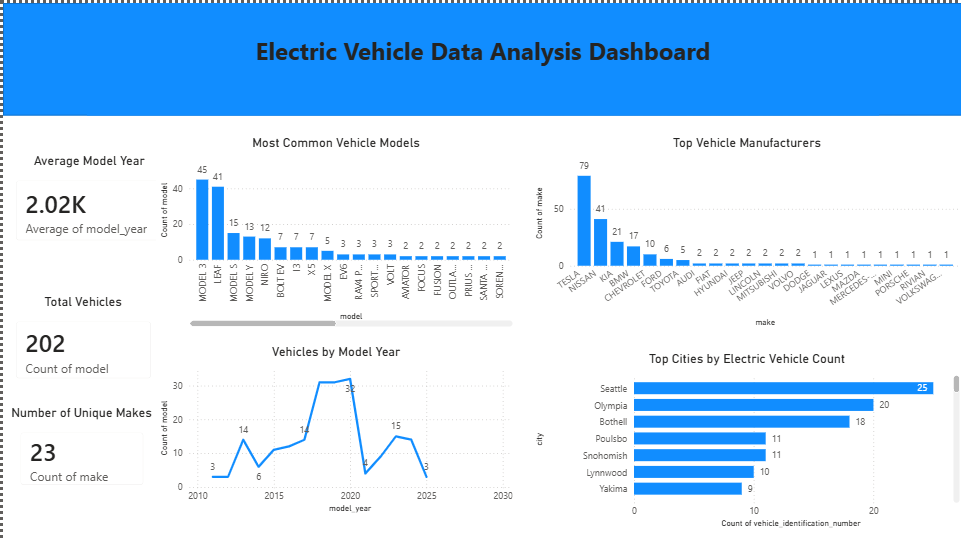

The page's visual inventory and layout, read from the dashboard file:
{"tool":"powerbi","page":{"name":"Page 1","canvas":[1280,720],"ordinal":0},"visuals":[{"type":"cardVisual","title":"Average Model Year","fields":{"Data":["Avg(Sheet1.model_year)"]},"box":[0,200,230,134],"z":0},{"type":"cardVisual","title":"Total Vehicles","fields":{"Data":["CountNonNull(Sheet1.model)"]},"box":[0,388,214,130],"z":1000},{"type":"cardVisual","title":"Number of Unique Makes","fields":{"Data":["Count(Sheet1.make)"]},"box":[6,536,198,124],"z":2000},{"type":"shape","box":[0,0,1280,150],"z":3000},{"type":"textbox","box":[112,0,1056,150],"z":4000},{"type":"clusteredColumnChart","title":"Most Common Vehicle Models","fields":{"Y":["CountNonNull(Sheet1.model)"],"Category":["Sheet1.model"]},"box":[204,176,480,260],"z":4001},{"type":"clusteredColumnChart","title":"Top Vehicle Manufacturers","fields":{"Category":["Sheet1.make"],"Y":["CountNonNull(Sheet1.make)"]},"box":[704,176,576,260],"z":4002},{"type":"lineChart","title":"Vehicles by Model Year","fields":{"Category":["Sheet1.model_year"],"Y":["CountNonNull(Sheet1.model)"]},"box":[204,454,480,230],"z":4003},{"type":"clusteredBarChart","title":"Top Cities by Electric Vehicle Count","fields":{"Category":["Sheet1.city"],"Y":["CountNonNull(Sheet1.vehicle_identification_number)"]},"box":[704,464,576,240],"z":4004}]}

Visuals, with their boxes in screenshot pixels (x1, y1, x2, y2), scaled from the page's 1280x720 canvas onto the 961x542 screenshot:
"Average Model Year" cardVisual: bbox=[0, 151, 173, 251]
"Total Vehicles" cardVisual: bbox=[0, 292, 161, 390]
"Number of Unique Makes" cardVisual: bbox=[5, 403, 153, 497]
shape: bbox=[0, 0, 960, 113]
textbox: bbox=[84, 0, 877, 113]
"Most Common Vehicle Models" clusteredColumnChart: bbox=[153, 132, 514, 328]
"Top Vehicle Manufacturers" clusteredColumnChart: bbox=[529, 132, 960, 328]
"Vehicles by Model Year" lineChart: bbox=[153, 342, 514, 515]
"Top Cities by Electric Vehicle Count" clusteredBarChart: bbox=[529, 349, 960, 530]
